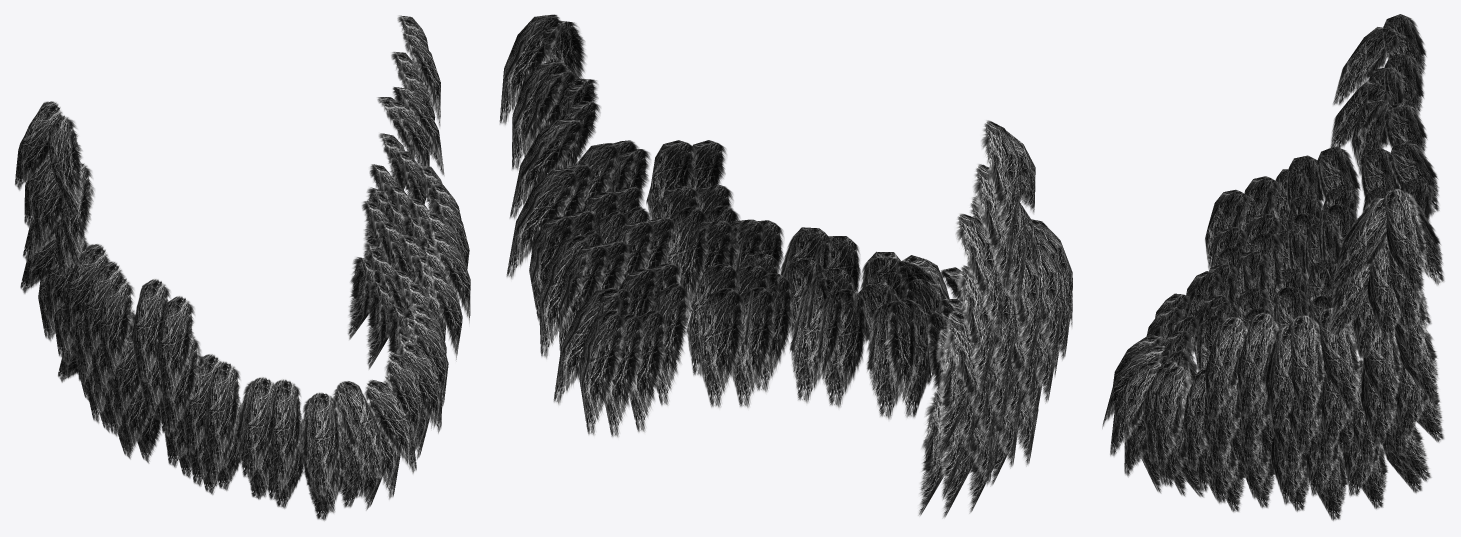
File: facial_beard_short.gltf
3 views of the same model, side by side, from view 1: azimuth 30°, elevation 25°; view 2: azimuth 150°, elevation 25°; view 3: azimuth 270°, elevation 25° (orthographic). The views are drawn at different scales.
Visible parts, largest first — view 1: facial_beard_short; view 2: facial_beard_short; view 3: facial_beard_short.
Boxes of the visible parts, box(x1,y1,x2,y2) form: facial_beard_short: box(15, 15, 470, 521); facial_beard_short: box(499, 14, 1072, 517); facial_beard_short: box(1102, 14, 1444, 521).
Bounding box in the file's own units: 0.1605 × 0.1407 × 0.1148.
1 material, 1 textured.
